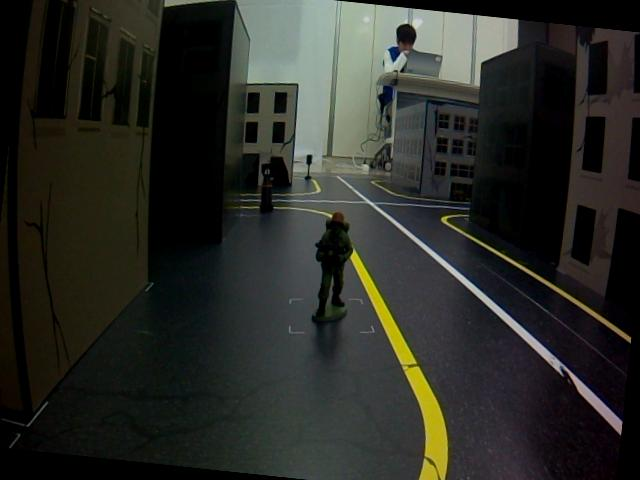Enemy: (306, 209, 361, 330)
Missile: (256, 160, 280, 213)
